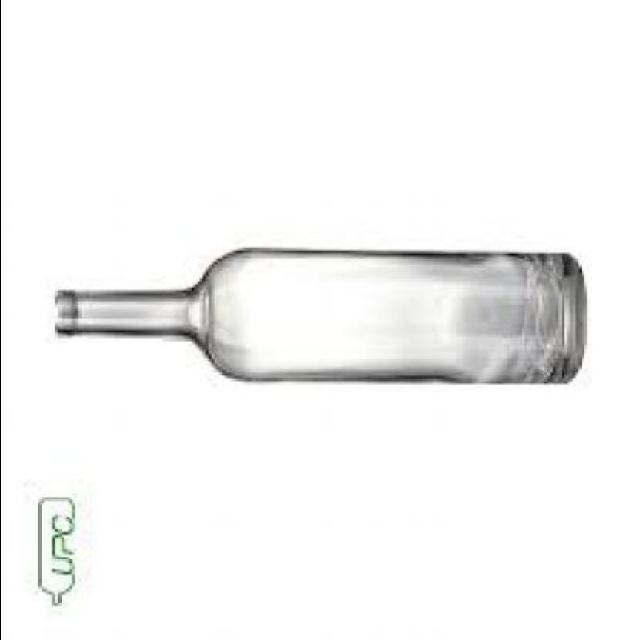kaca: (51, 252, 580, 383)
